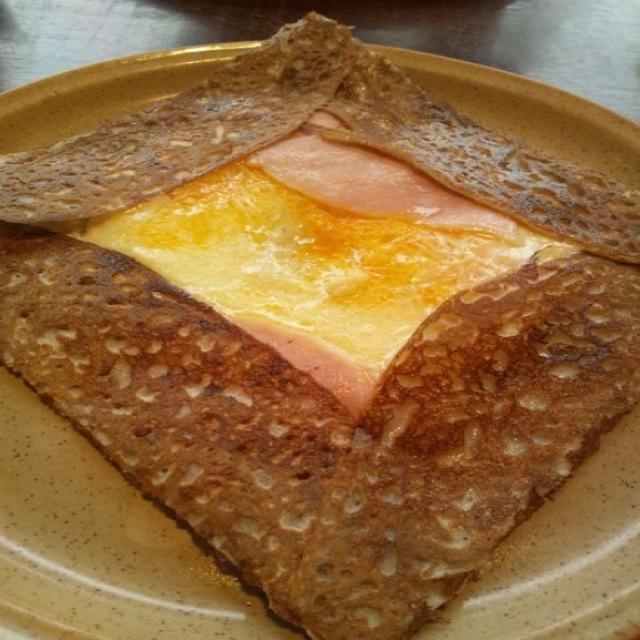蛋糕甜品: (8, 13, 636, 637)
